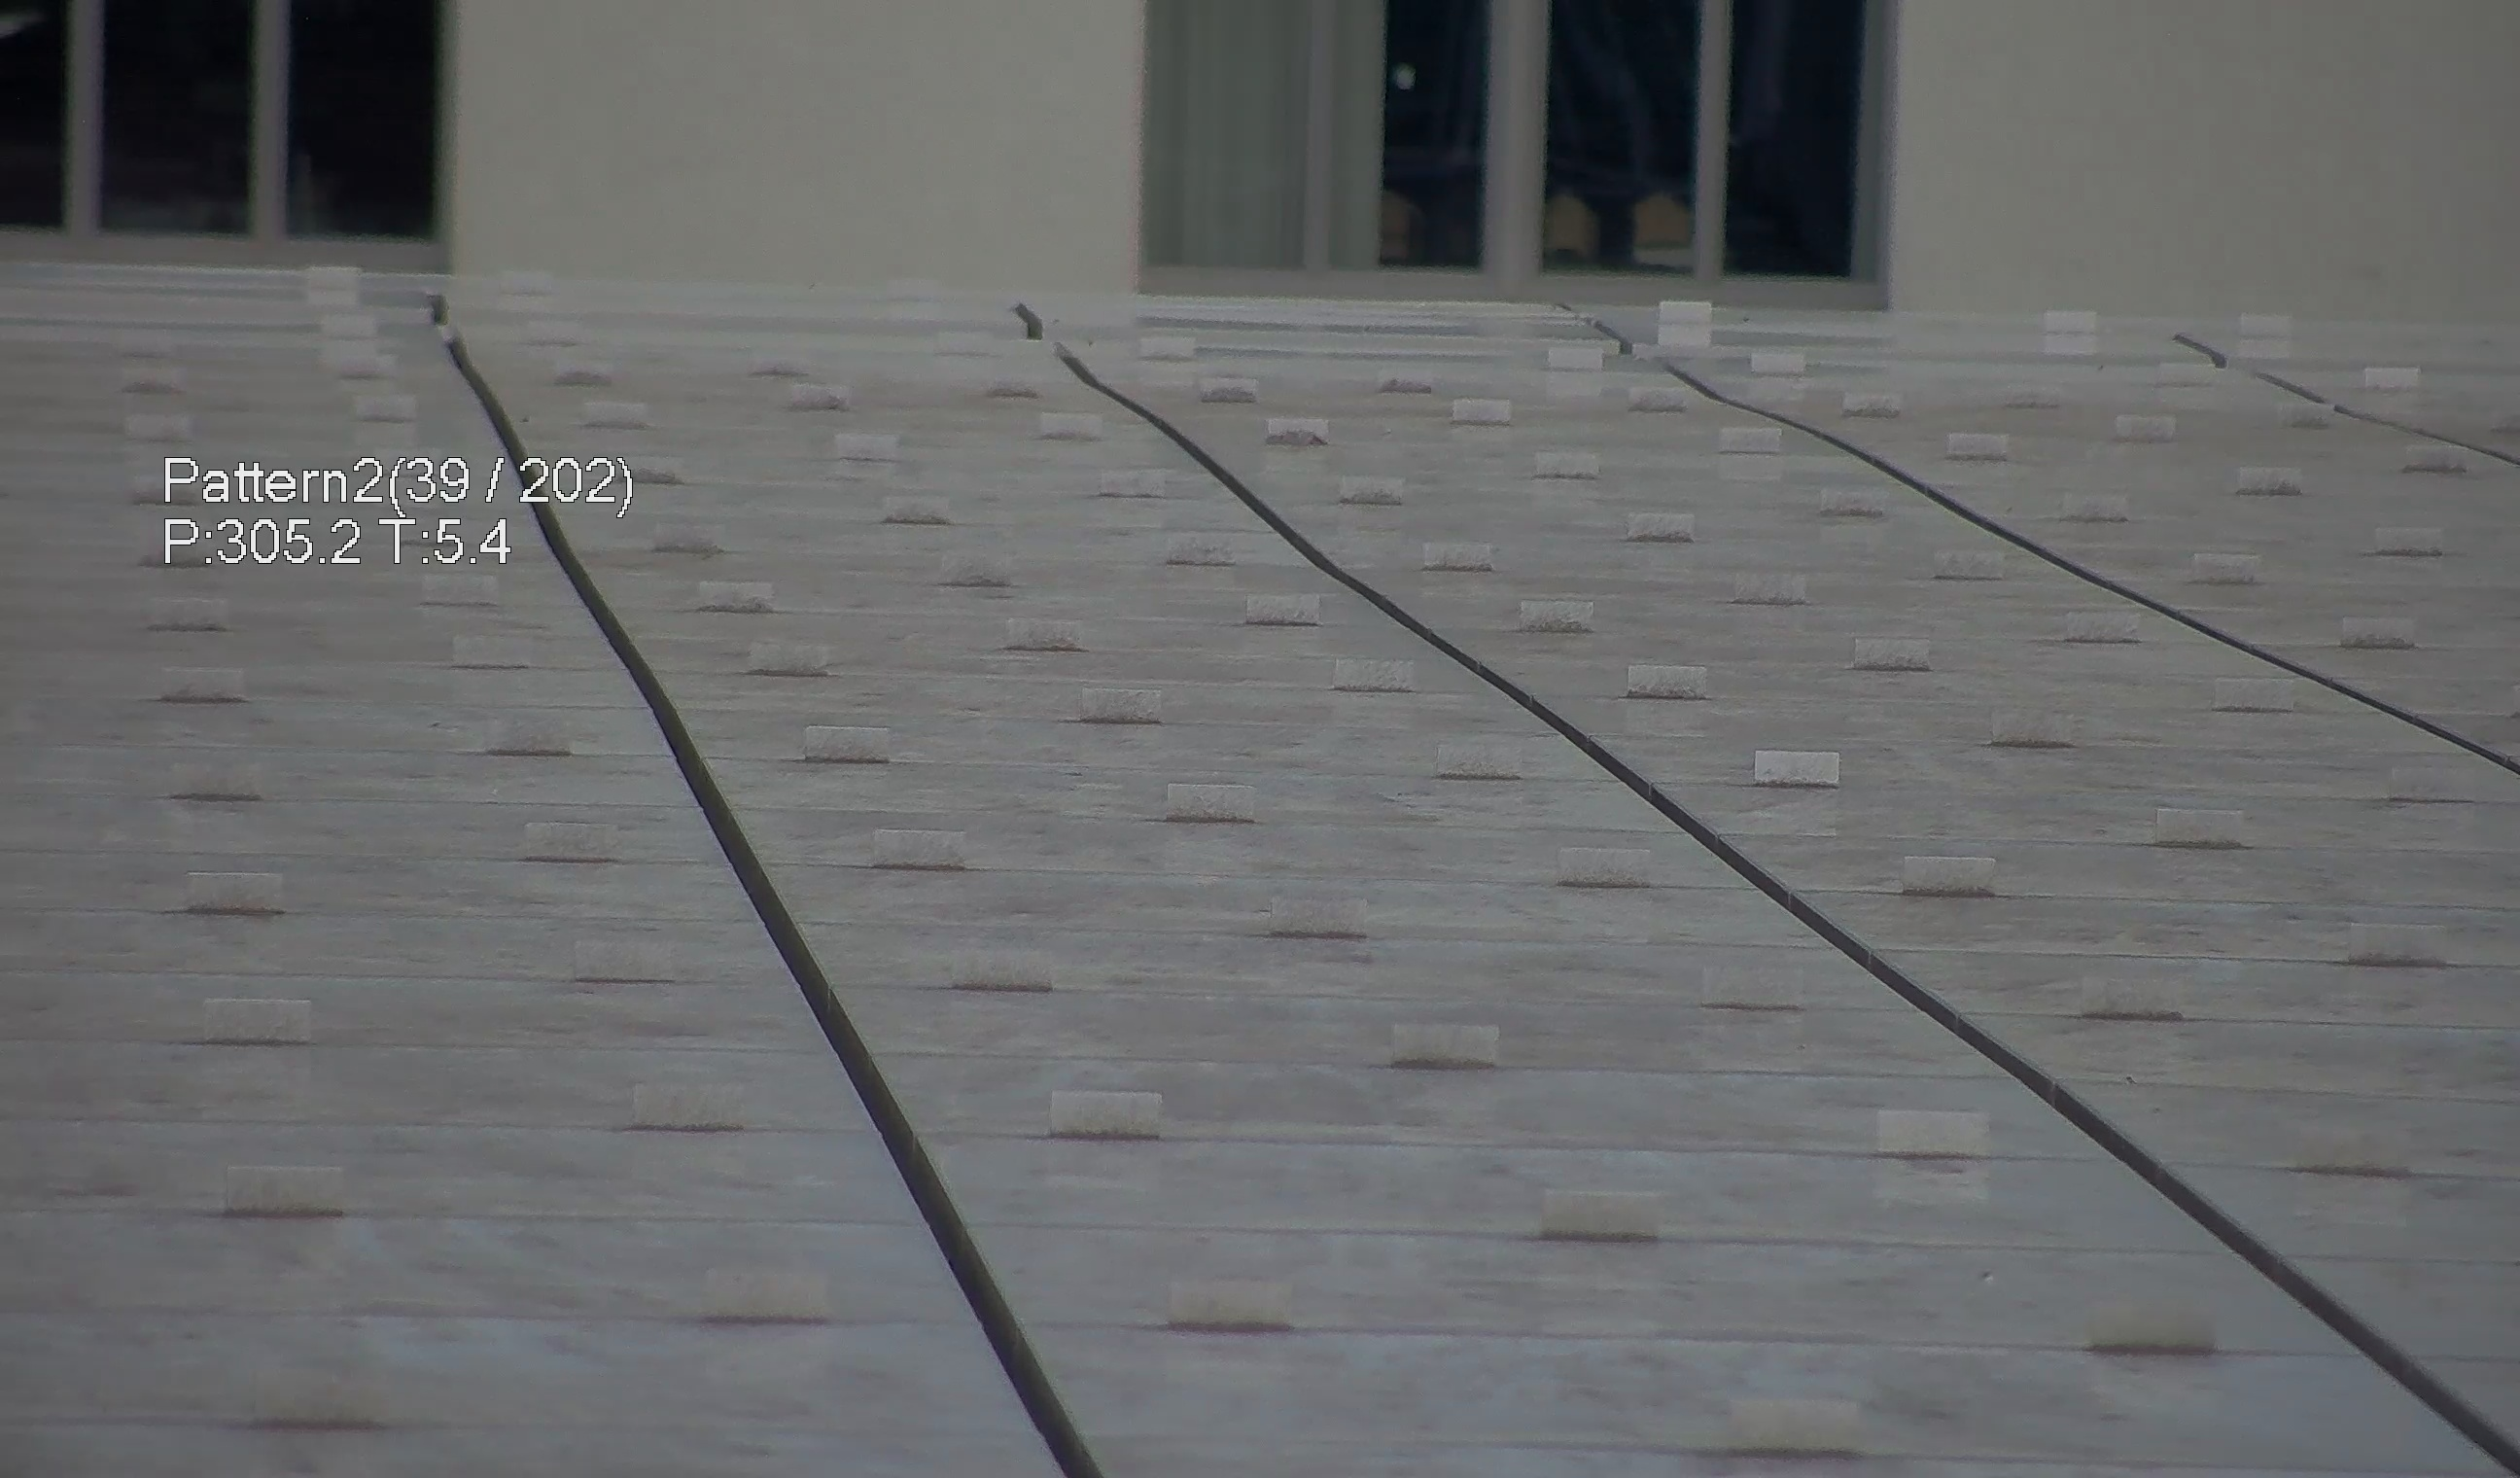Other: (397, 296, 522, 494)
